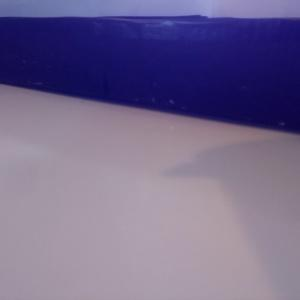zone: (1, 13, 299, 134)
